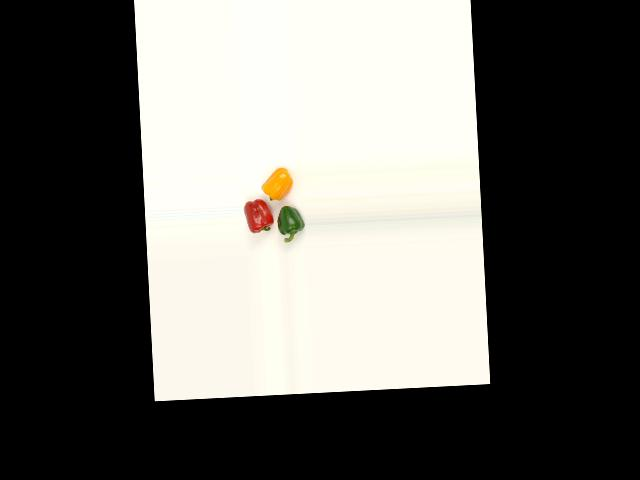bell_pepper: (275, 204, 305, 244)
